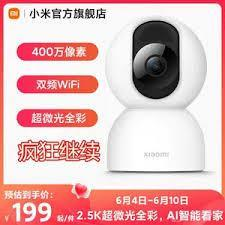maru: (102, 10, 212, 178)
